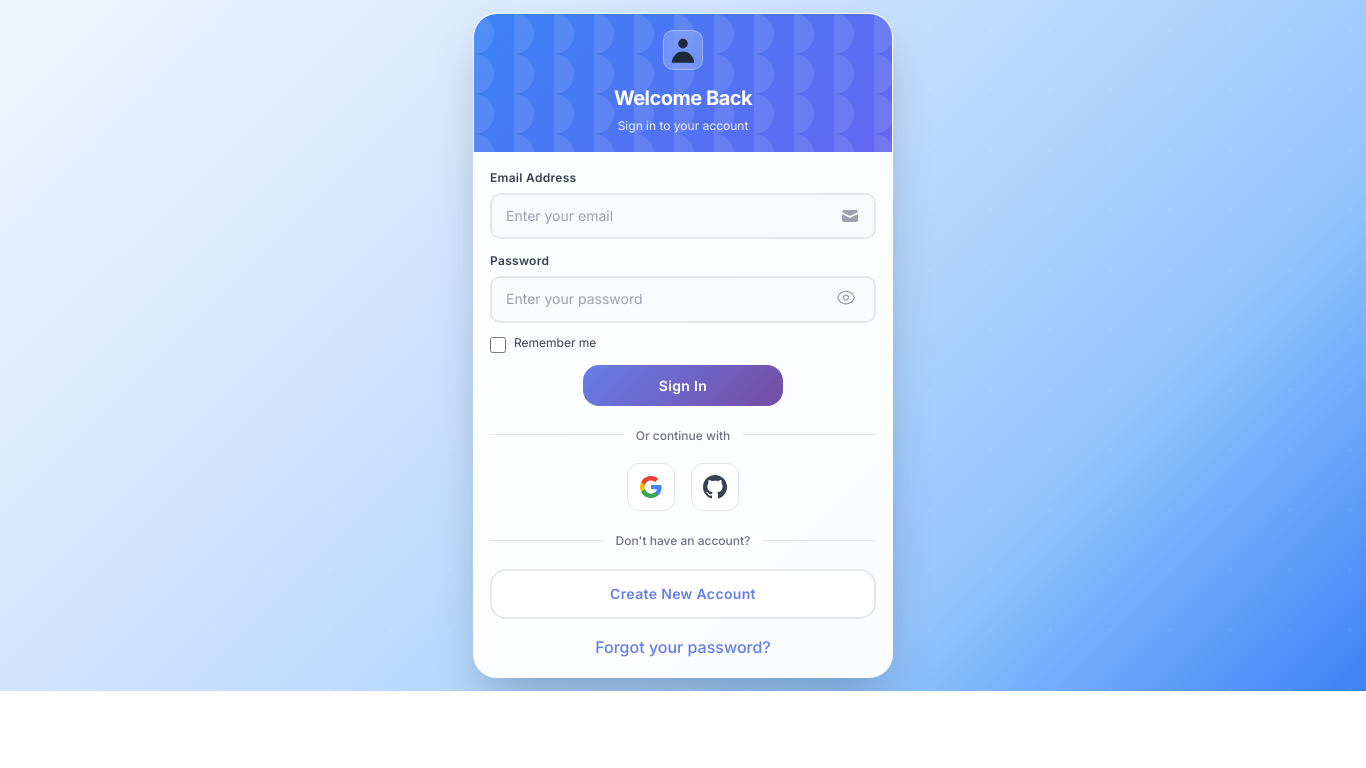
SignIn Component › displays validation errors for empty fields
What coordinates should you click on to do the following:
click the button "Sign In"
I would click on:
 (683, 385)
Its box is [583,365,783,406].
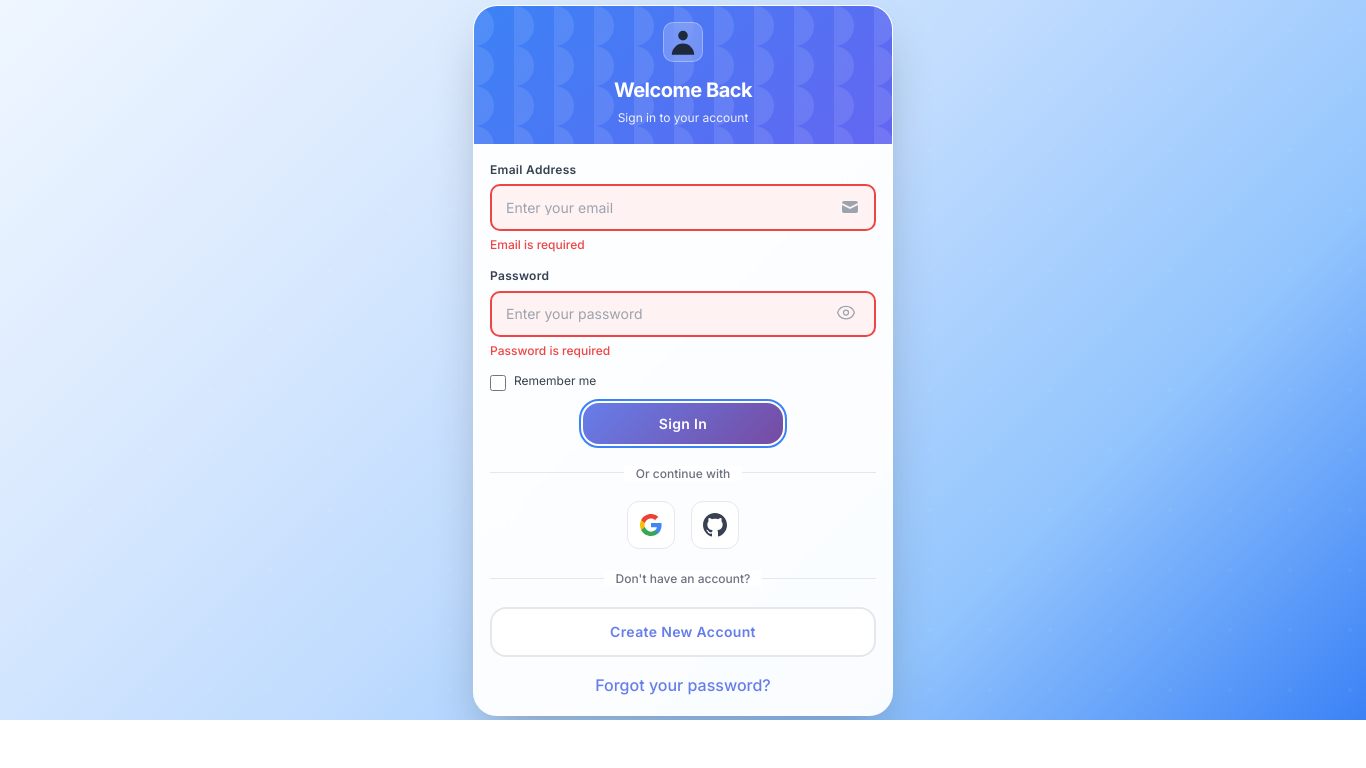
Result: the text "Email is required" is shown at [490,237,585,252]
Result: the text "Password is required" is shown at [490,343,610,358]
